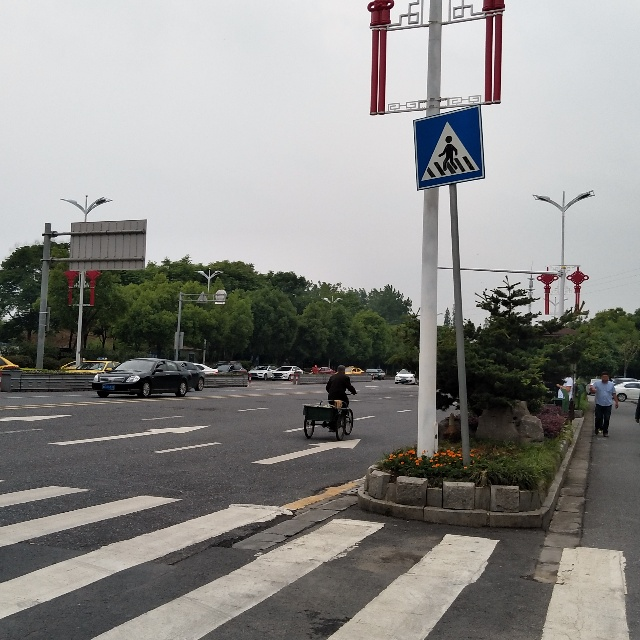crosswalk: (414, 115, 479, 185)
